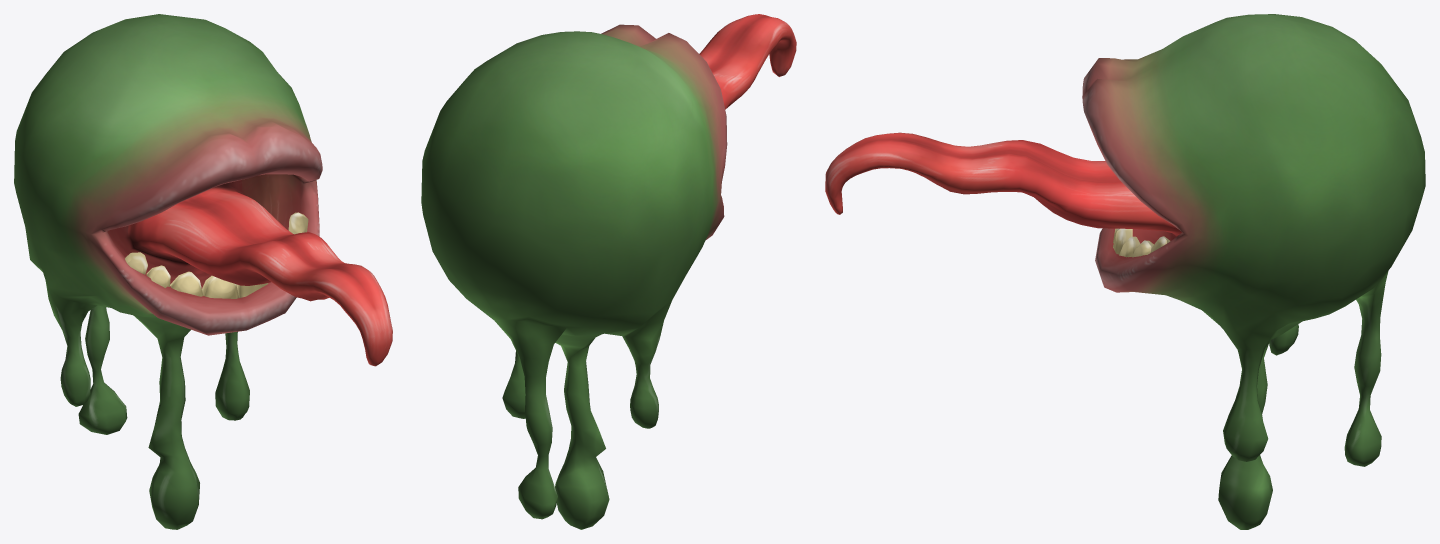
File: Green Monster_Painted.fbx
3 views of the same model, side by side, from view 1: azimuth 30°, elevation 25°; view 2: azimuth 150°, elevation 25°; view 3: azimuth 270°, elevation 25° (orthographic). The views are drawn at different scales.
Parts seen in each view (by area): view 1: RetopoGroup1; view 2: RetopoGroup1; view 3: RetopoGroup1.
Part boxes in pixels (bbox=[...]): RetopoGroup1: bbox=[14, 14, 392, 529]; RetopoGroup1: bbox=[421, 14, 796, 529]; RetopoGroup1: bbox=[825, 14, 1425, 529].
Bounding box in the file's own units: 242 × 439 × 476.
1 material, 1 textured.
